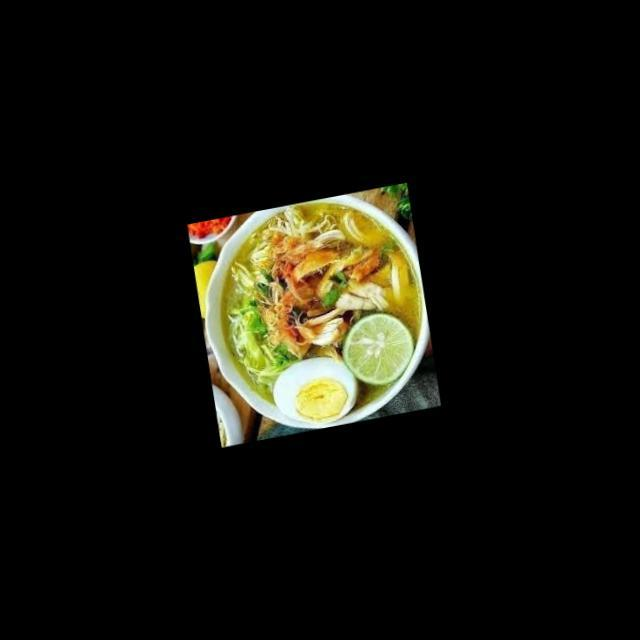Soto: (210, 196, 423, 427)
